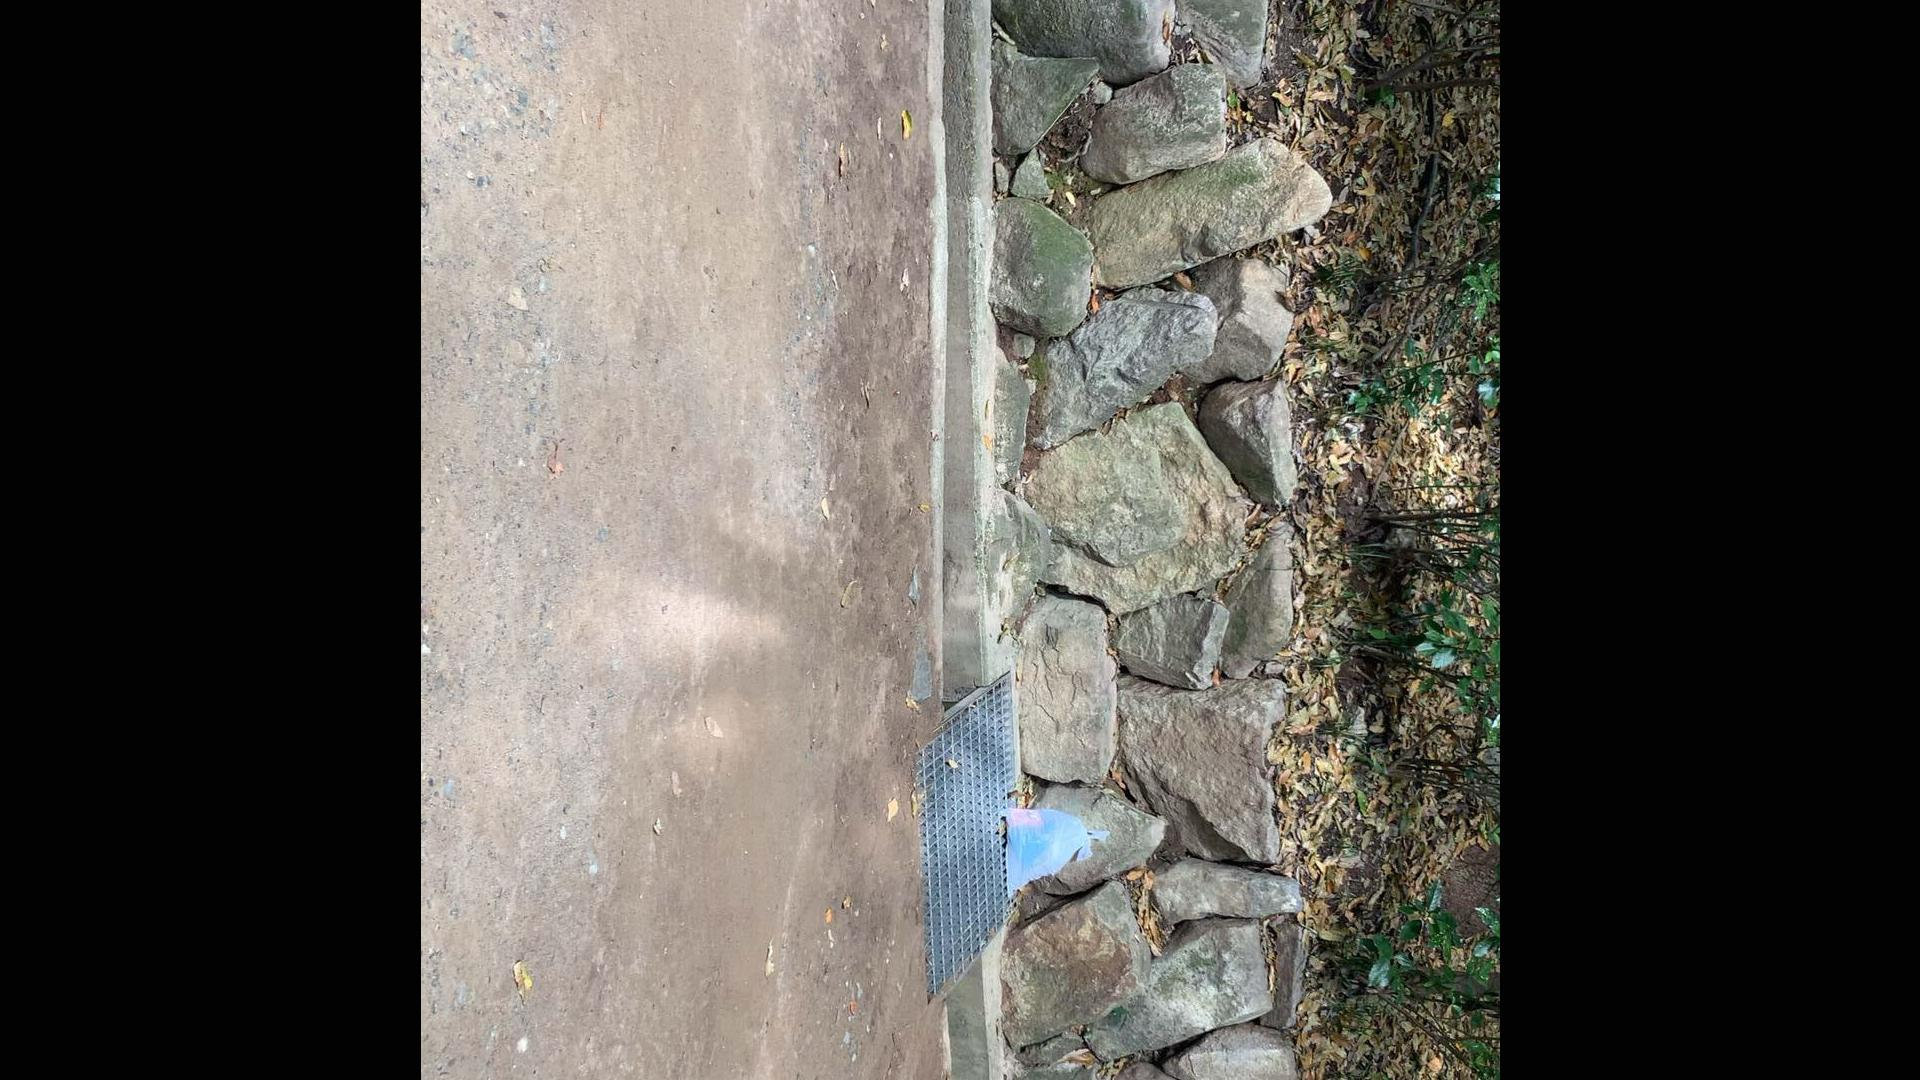white_bag: (993, 800, 1112, 906)
